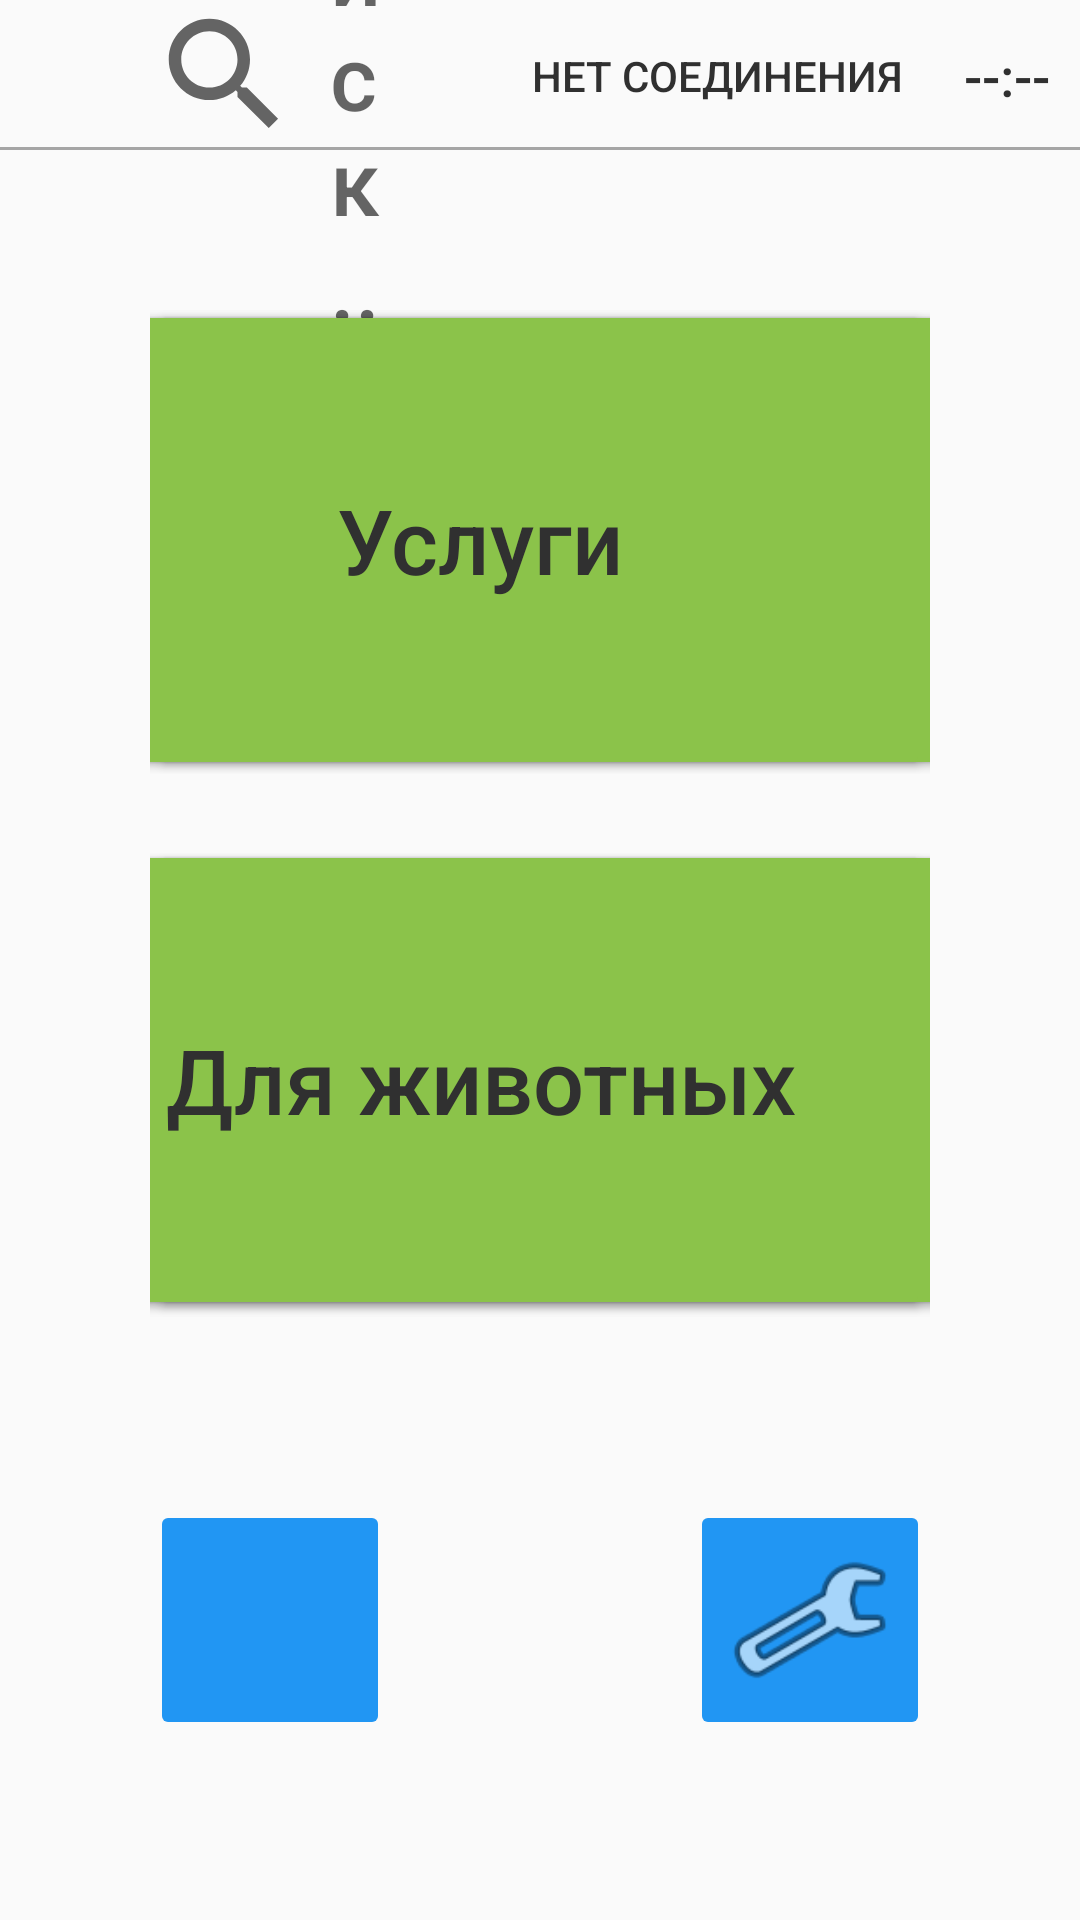

Icon click points for this 1080×1920 phone screenshot, format (x,y):
preferences: (810,1620)
search: (223,73)
